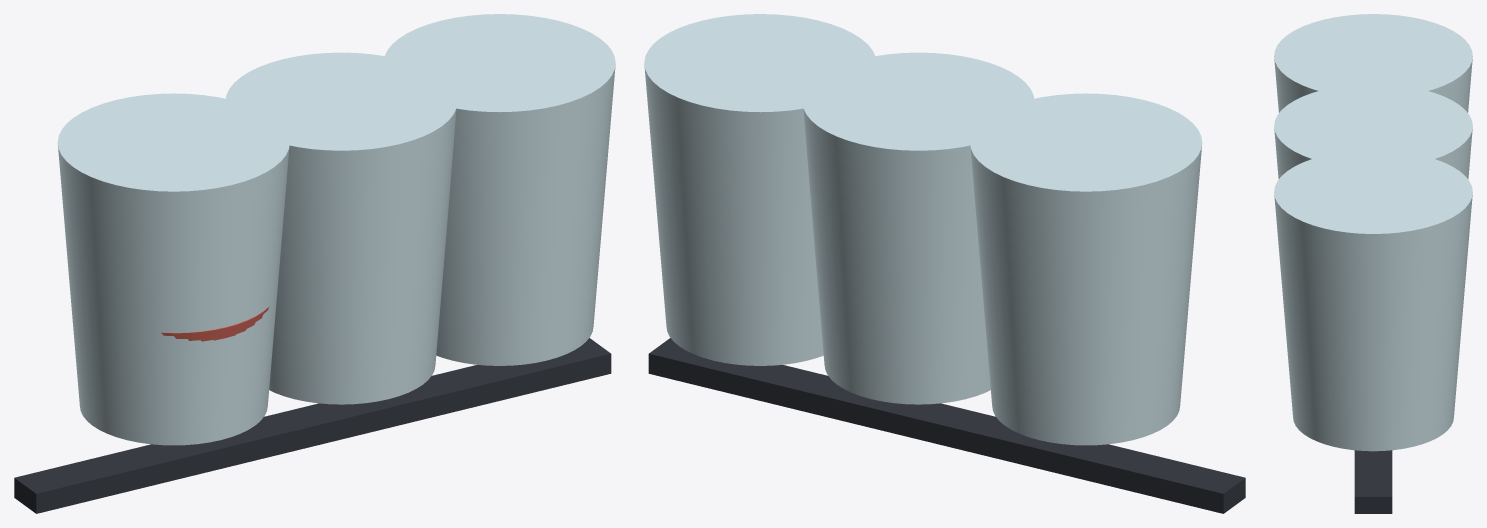
The model's file is chem-stoich-limiting-reactant.glb.
3 views of the same model, side by side, from view 1: azimuth 30°, elevation 25°; view 2: azimuth 150°, elevation 25°; view 3: azimuth 270°, elevation 25° (orthographic). The views are drawn at different scales.
Visible parts, largest first — view 1: small-reactant-runs-out-glass, excess-reactant-leftover-glass, product-cap-vial-glass, stoichiometry-bench, small-reactant-runs-out-liquid; view 2: small-reactant-runs-out-glass, excess-reactant-leftover-glass, product-cap-vial-glass, stoichiometry-bench; view 3: product-cap-vial-glass, small-reactant-runs-out-glass, excess-reactant-leftover-glass, stoichiometry-bench.
Boxes of the visible parts, left/top/right/bottom form: small-reactant-runs-out-glass: left=57, top=93, right=289, bottom=445; excess-reactant-leftover-glass: left=225, top=52, right=457, bottom=404; product-cap-vial-glass: left=383, top=14, right=615, bottom=365; stoichiometry-bench: left=14, top=338, right=611, bottom=513; small-reactant-runs-out-liquid: left=161, top=307, right=268, bottom=341; small-reactant-runs-out-glass: left=970, top=93, right=1202, bottom=445; excess-reactant-leftover-glass: left=802, top=52, right=1034, bottom=404; product-cap-vial-glass: left=644, top=14, right=876, bottom=365; stoichiometry-bench: left=648, top=338, right=1245, bottom=513; product-cap-vial-glass: left=1274, top=150, right=1472, bottom=451; small-reactant-runs-out-glass: left=1274, top=14, right=1472, bottom=112; excess-reactant-leftover-glass: left=1274, top=84, right=1472, bottom=178; stoichiometry-bench: left=1354, top=450, right=1392, bottom=513.
Size of what is drawn, in the model's own units: 2.4 by 1.3 by 0.84.
